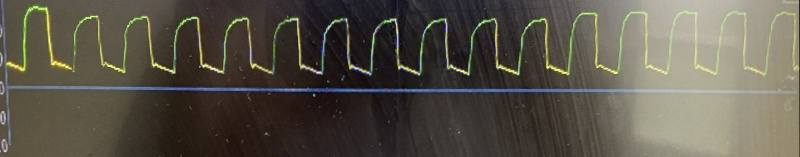normal_pressure: (1, 5, 777, 83)
